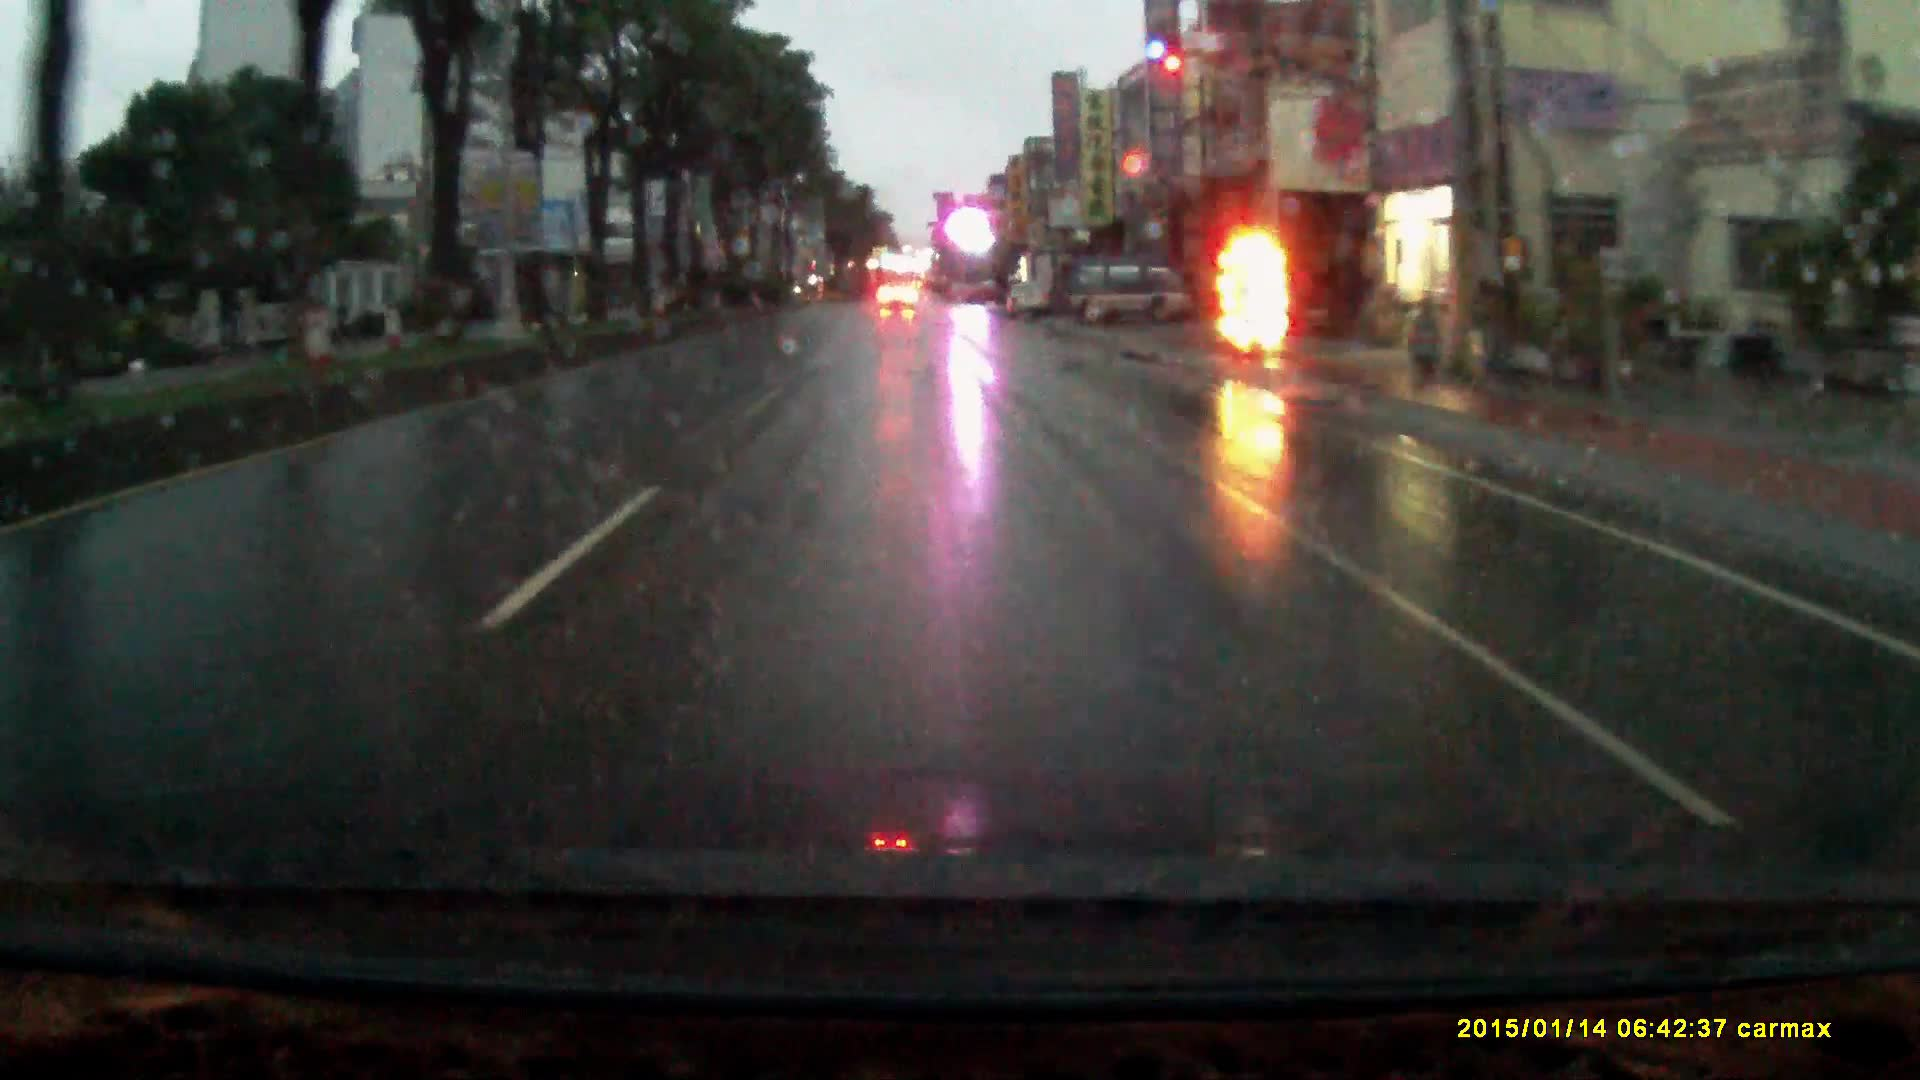vehicle: (1062, 258, 1200, 328), (1015, 247, 1080, 320), (1005, 281, 1054, 322), (878, 282, 920, 315)
